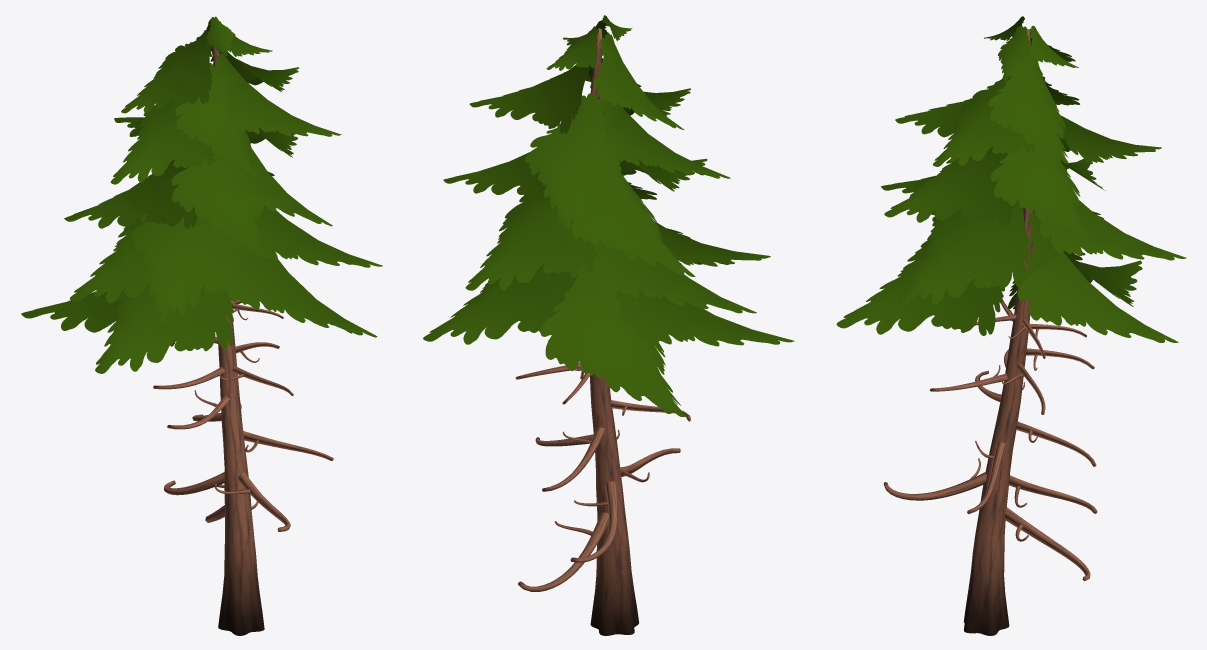
The model's file is Pine_3.gltf.
The picture shows the model from 3 angles, left to right: view 1: azimuth 30°, elevation 25°; view 2: azimuth 150°, elevation 25°; view 3: azimuth 270°, elevation 25°; orthographic projection. The views are drawn at different scales.
Parts seen in each view (by area): view 1: Pine_3; view 2: Pine_3; view 3: Pine_3.
Part boxes in pixels (x1,y1,x2,y2): Pine_3: [21, 16, 382, 635]; Pine_3: [423, 15, 794, 635]; Pine_3: [836, 16, 1186, 635].
Size of the model in its own units: 3.61 by 7.39 by 4.
Materials: 2 (2 with a texture image).
